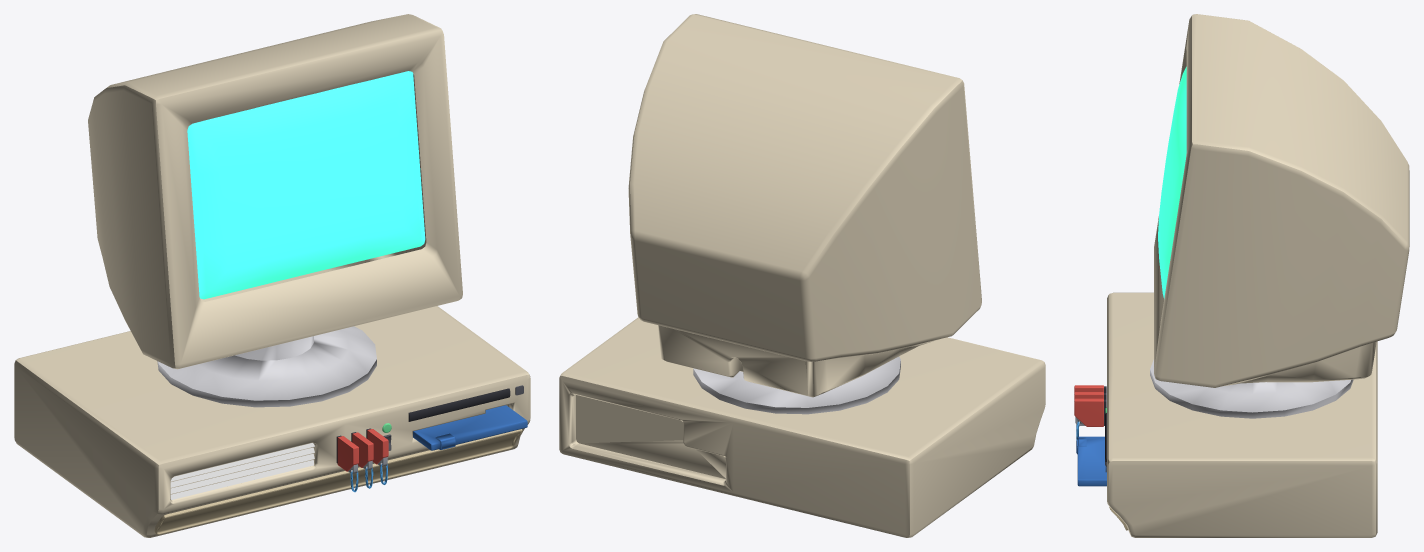
The model's file is computer-model.glb.
3 views of the same model, side by side, from view 1: azimuth 30°, elevation 25°; view 2: azimuth 150°, elevation 25°; view 3: azimuth 270°, elevation 25° (orthographic). The views are drawn at different scales.
Visible parts, largest first — view 1: computer_body, computer_screen, rack_3, rack_4, rack_2, rack_1; view 2: computer_body; view 3: computer_body, computer_screen.
Boxes of the visible parts, <box> form: computer_body: <box>14,14,530,537</box>; computer_screen: <box>187,71,425,299</box>; rack_3: <box>170,453,314,493</box>; rack_4: <box>170,447,314,487</box>; rack_2: <box>170,460,313,499</box>; rack_1: <box>170,443,314,481</box>; computer_body: <box>559,14,1045,537</box>; computer_body: <box>1074,14,1409,537</box>; computer_screen: <box>1158,66,1186,298</box>.
Size of the model in its own units: 0.4501 by 0.4665 by 0.3746.
2 materials, 1 textured.
